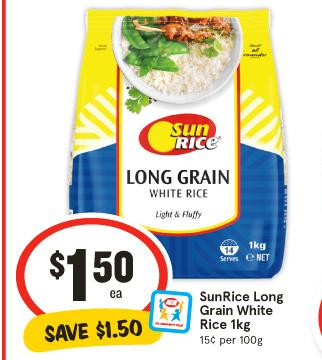description_block: (197, 290, 290, 331)
price_main: (23, 228, 159, 314)
product_image_block: (68, 14, 290, 275)
promo_text_block: (19, 317, 166, 350)
unit_price_block: (195, 333, 291, 349)
